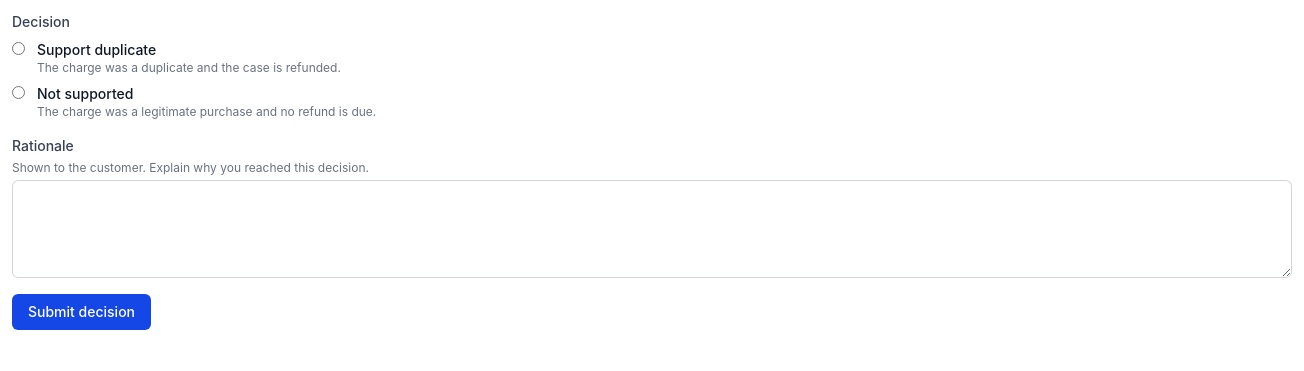
AnalystDecisionForm › refuses to submit without a rationale
Step 1. Click the radio button labelled "Support duplicate" → (18, 48), box [12,42,25,55]
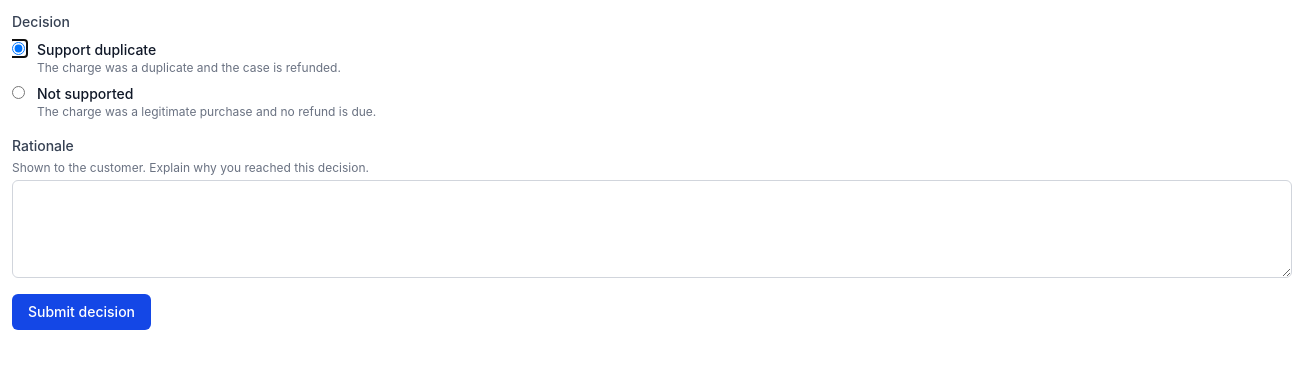
Step 2. Click the button "Submit decision" → (82, 312), box [12,294,151,330]
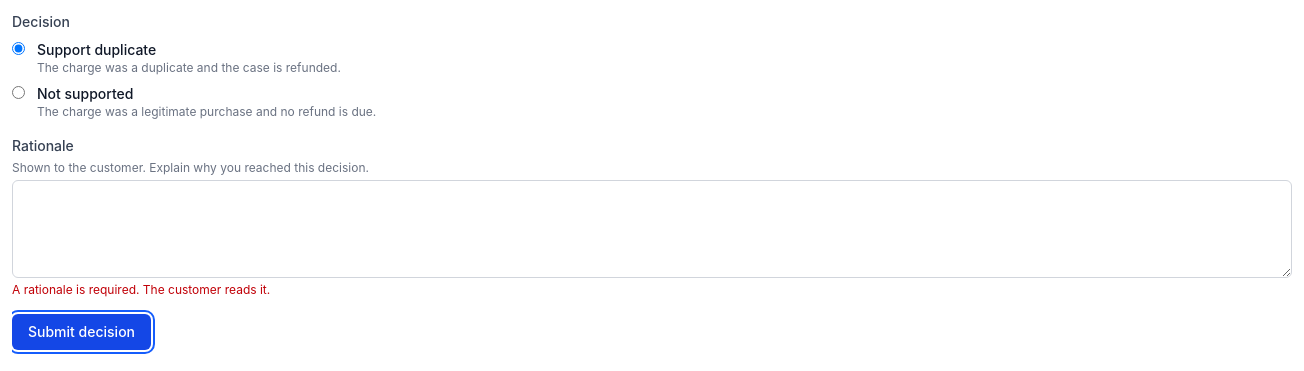
Check: the message shows "A rationale is required.", box [12,282,270,297]
